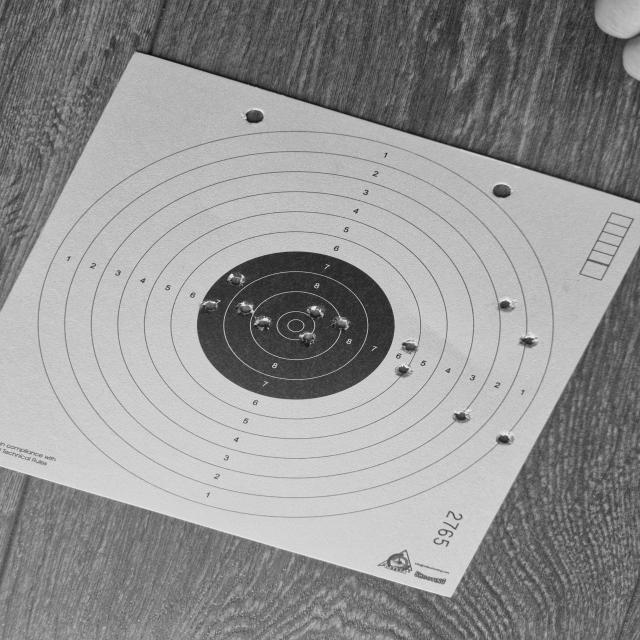1: (496, 432, 514, 446)
10: (299, 332, 317, 347), (307, 306, 323, 319)
2: (519, 335, 539, 349)
3: (497, 299, 516, 312), (452, 410, 471, 423)
6: (402, 340, 421, 354), (395, 364, 413, 378)
7: (227, 273, 246, 287), (201, 301, 218, 312)
8: (236, 302, 254, 315)
9: (254, 316, 272, 331), (332, 316, 350, 330)
Target: (36, 132, 554, 519)
black_contour: (197, 250, 394, 400)
